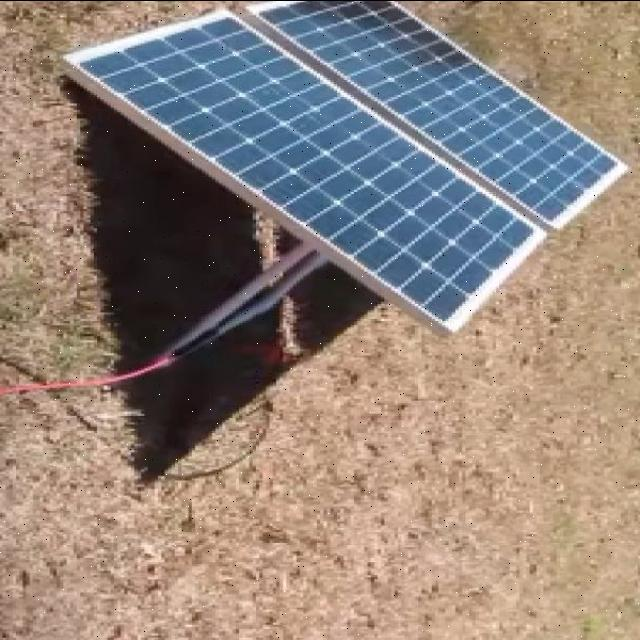Normal Solar Panel: (72, 0, 628, 327)
